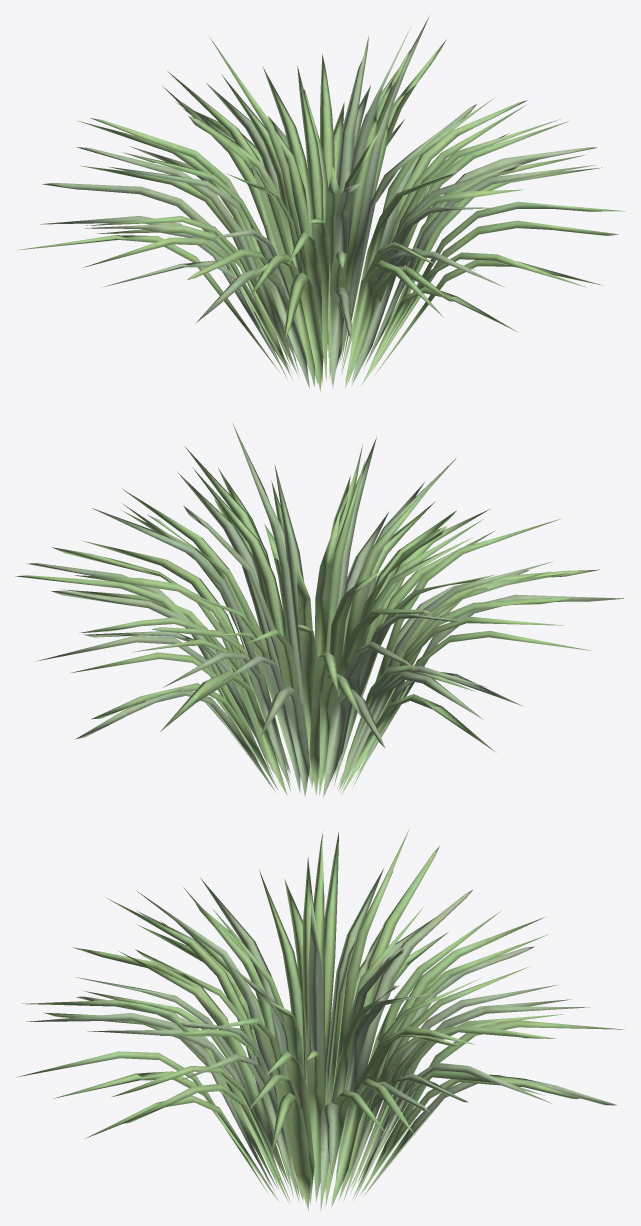
File: grass.glb
3 views of the same model, one above another, from view 1: azimuth 30°, elevation 25°; view 2: azimuth 150°, elevation 25°; view 3: azimuth 270°, elevation 25° (orthographic).
Parts seen in each view (by area): view 1: lod0; view 2: lod0; view 3: lod0.
Part boxes in pixels (x1=…): lod0: x1=17, y1=16, x2=625, y2=391; lod0: x1=15, y1=423, x2=623, y2=798; lod0: x1=16, y1=828, x2=624, y2=1211.
Size of what is drawn, in the model's own units: 0.6573 by 0.3881 by 0.6354.
Materials: 1 (1 with a texture image).
